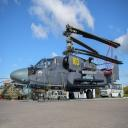helicopter: (9, 43, 125, 102)
